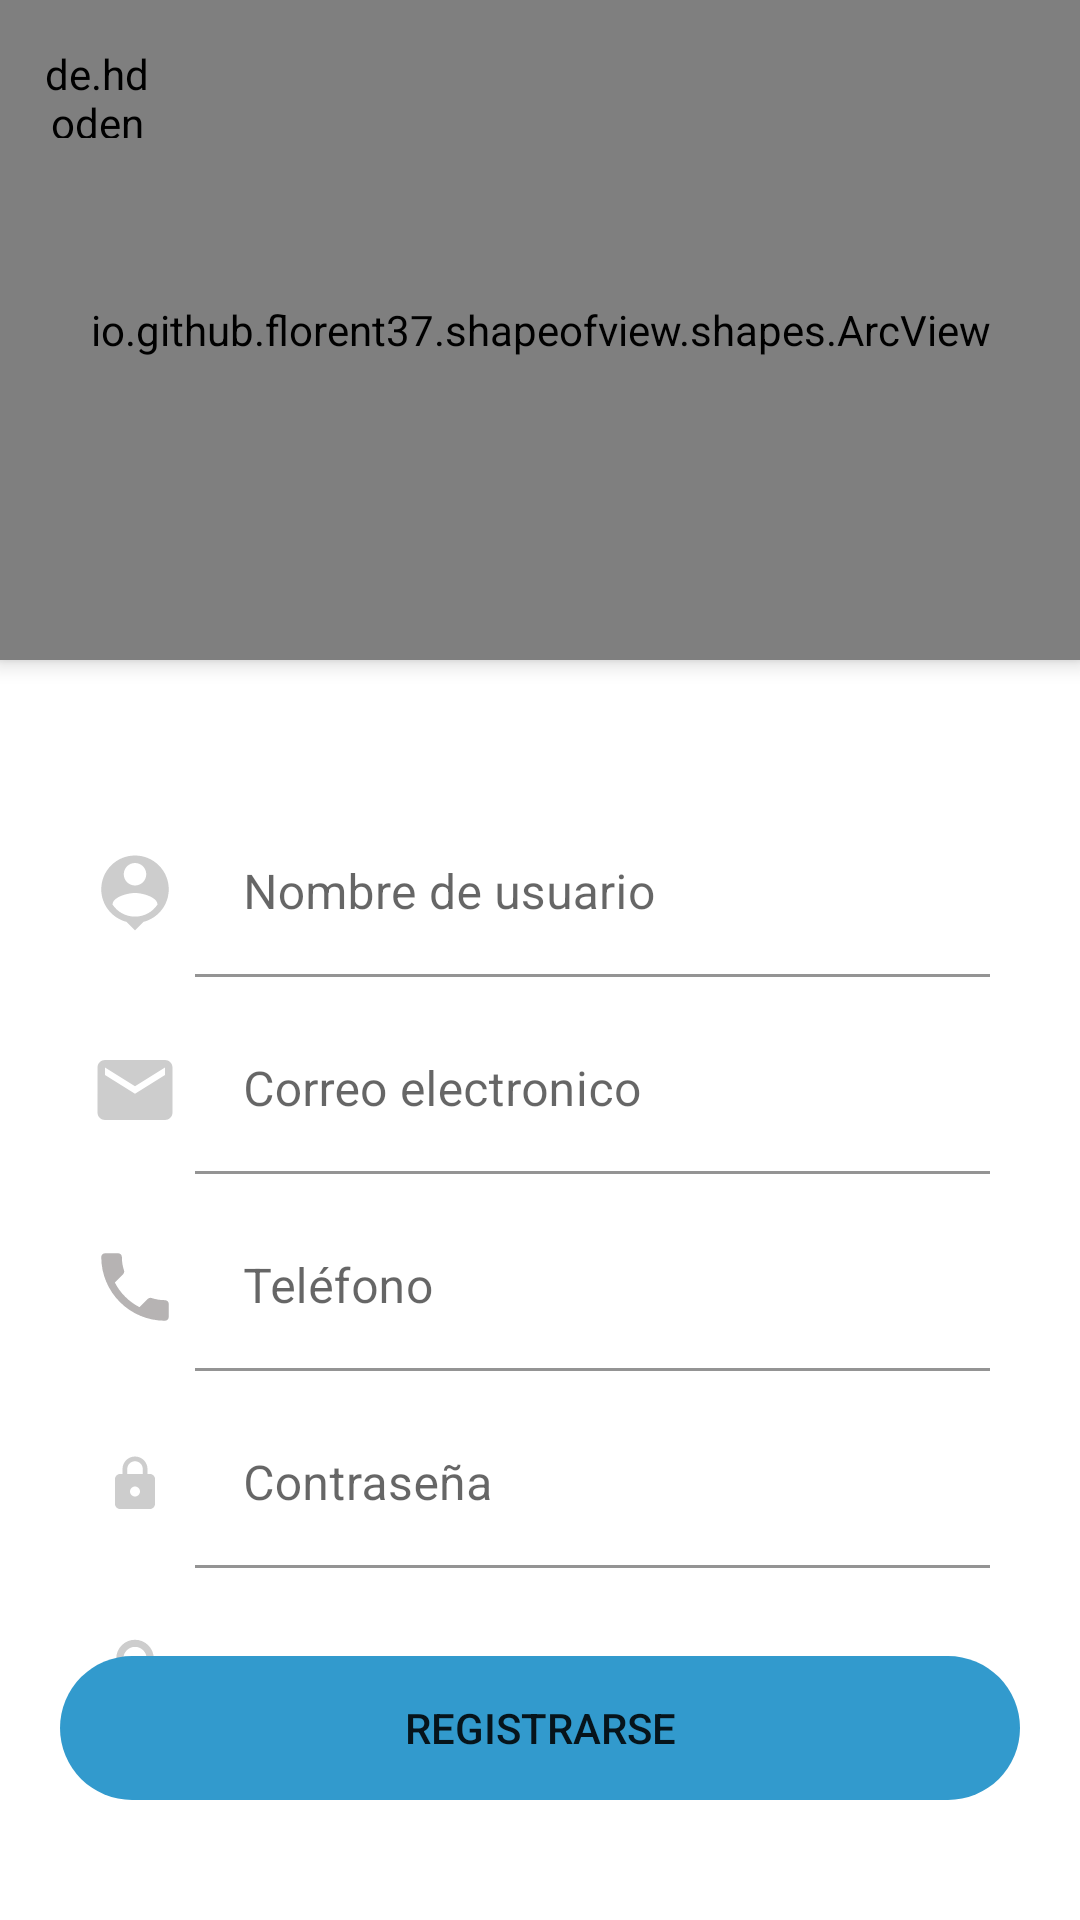

Icons on this 1080px x 1920px Android screen, each with its box as (x1, y1, x2, y2):
mail: (97, 1060, 173, 1120)
password: (115, 1456, 155, 1509)
person pin: (101, 855, 169, 930)
phone: (101, 1253, 169, 1321)
